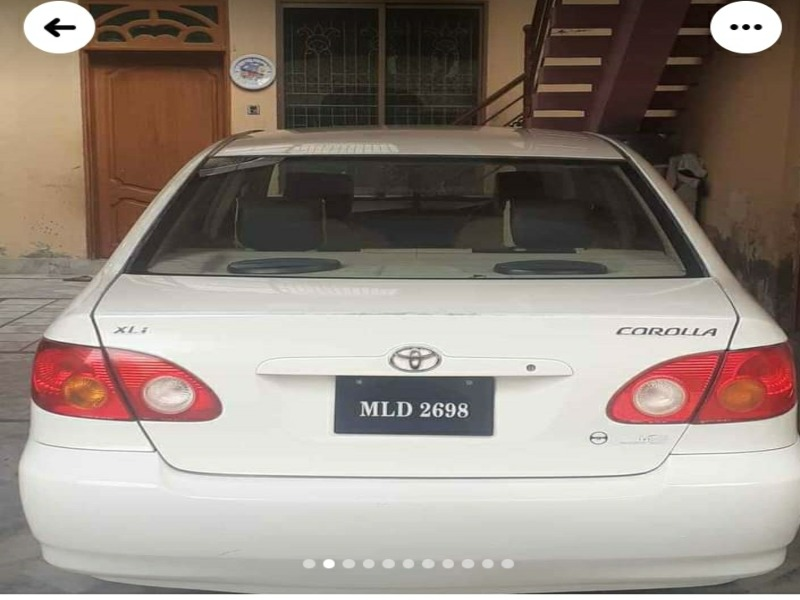License Plate: (334, 373, 497, 439)
